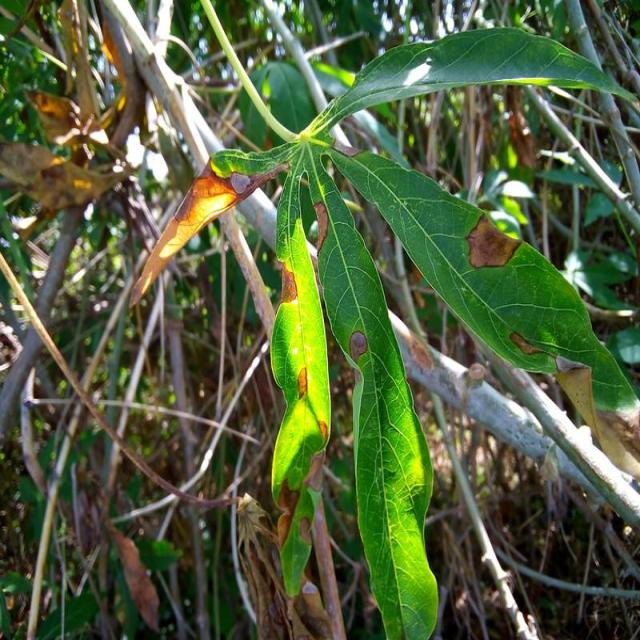Mosaico: (204, 116, 558, 614)
